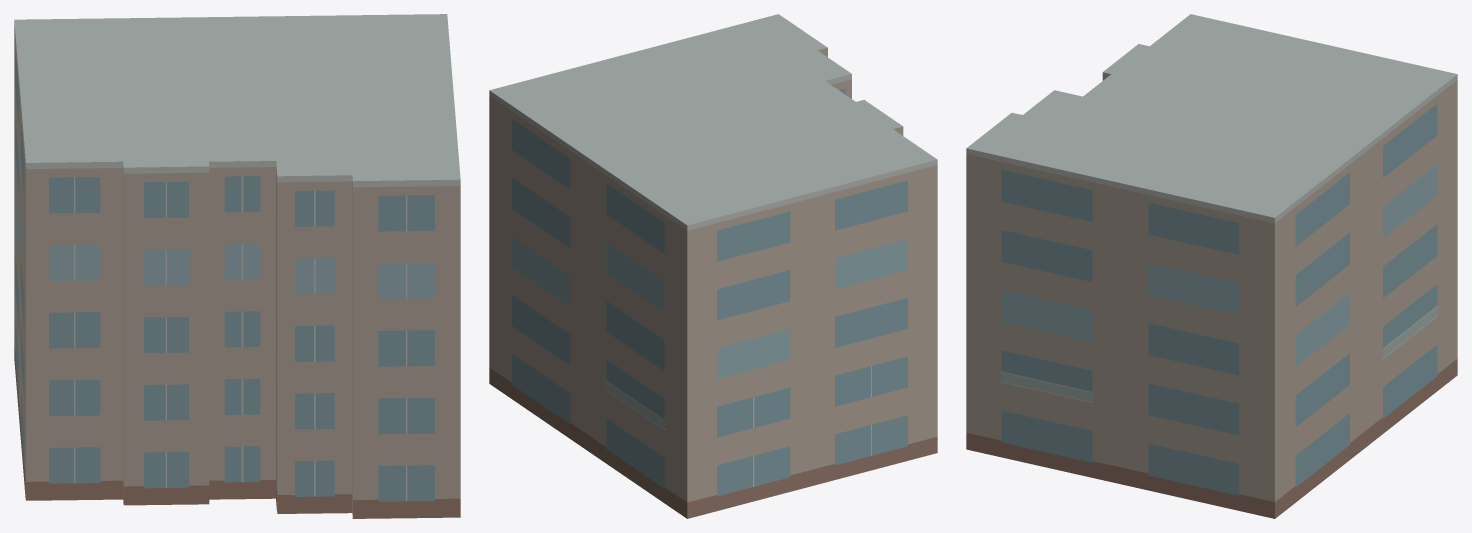
The model's file is survey-upis-32607577.glb.
3 views of the same model, side by side, from view 1: azimuth 30°, elevation 25°; view 2: azimuth 150°, elevation 25°; view 3: azimuth 270°, elevation 25° (orthographic). The views are drawn at different scales.
Parts seen in each view (by area): view 1: survey-upis-32607577.tmp; view 2: survey-upis-32607577.tmp; view 3: survey-upis-32607577.tmp.
Boxes of the visible parts, box(x1,y1,x2,y2) form: survey-upis-32607577.tmp: box(14, 14, 460, 518); survey-upis-32607577.tmp: box(489, 14, 937, 518); survey-upis-32607577.tmp: box(966, 14, 1457, 518).
Bounding box in the file's own units: 19.47 × 13.4 × 19.83.
